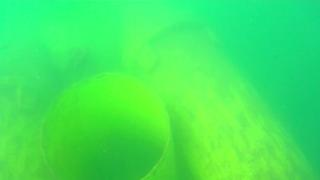pipe: (120, 16, 319, 180), (38, 71, 176, 180), (1, 37, 57, 180)
